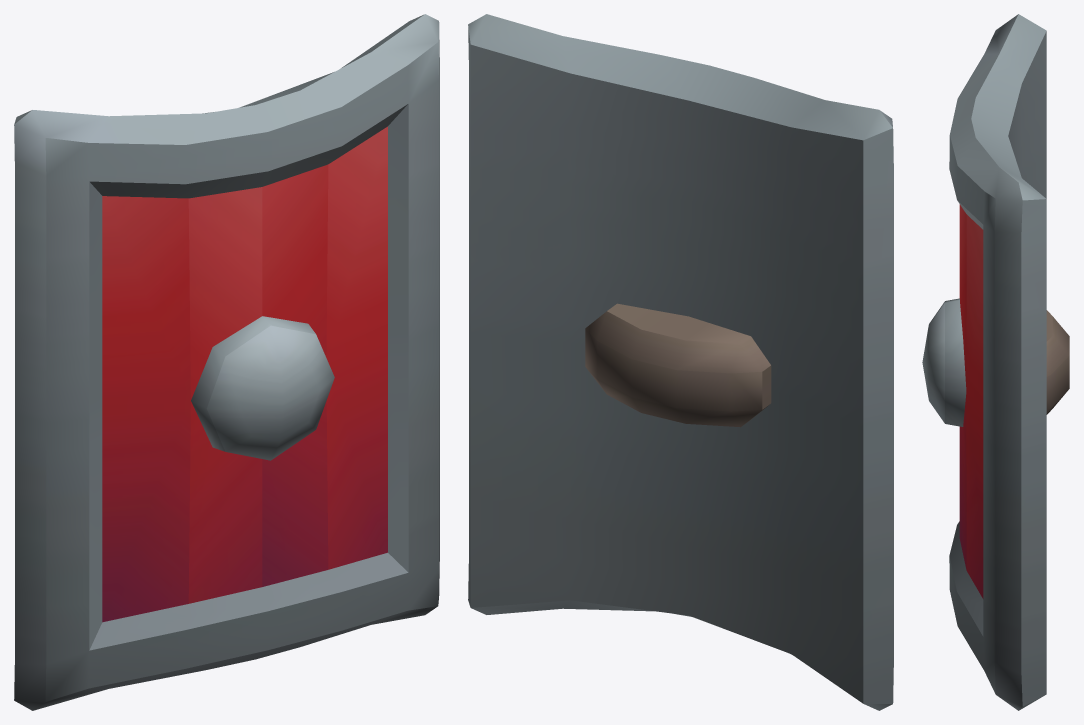
Rendered from shield_square_color.glb.
The picture shows the model from 3 angles, left to right: view 1: azimuth 30°, elevation 25°; view 2: azimuth 150°, elevation 25°; view 3: azimuth 270°, elevation 25°; orthographic projection. The views are drawn at different scales.
Parts seen in each view (by area): view 1: shield_square_color; view 2: shield_square_color; view 3: shield_square_color.
Part boxes in pixels (x1=…): shield_square_color: x1=14, y1=14, x2=439, y2=710; shield_square_color: x1=468, y1=14, x2=893, y2=710; shield_square_color: x1=922, y1=14, x2=1069, y2=710.
Bounding box in the file's own units: 0.8825 × 1.19 × 0.301.
1 material, 1 textured.
